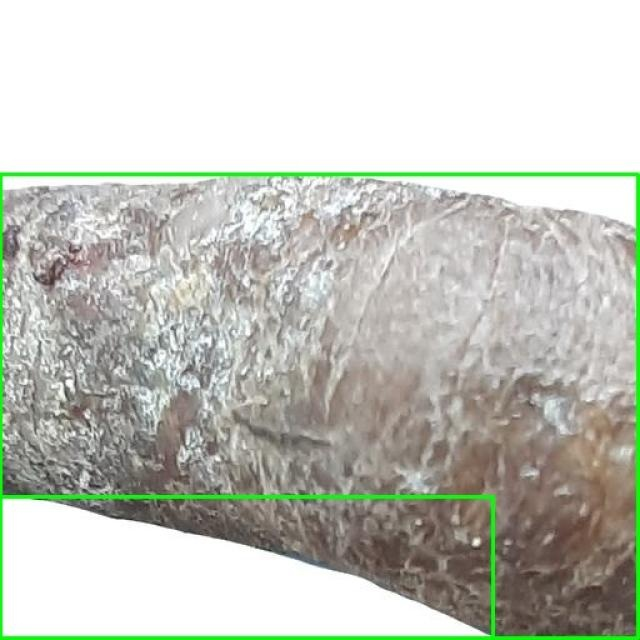Eczema: (0, 175, 639, 639), (0, 496, 492, 639)
